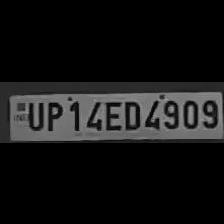0: (180, 96, 198, 128)
1: (64, 97, 82, 131)
4: (142, 96, 162, 130), (82, 97, 102, 130)
9: (160, 96, 180, 130), (199, 96, 219, 128)
D: (120, 97, 140, 129)
E: (102, 97, 120, 130)
P: (42, 98, 64, 132)
U: (22, 98, 44, 130)
